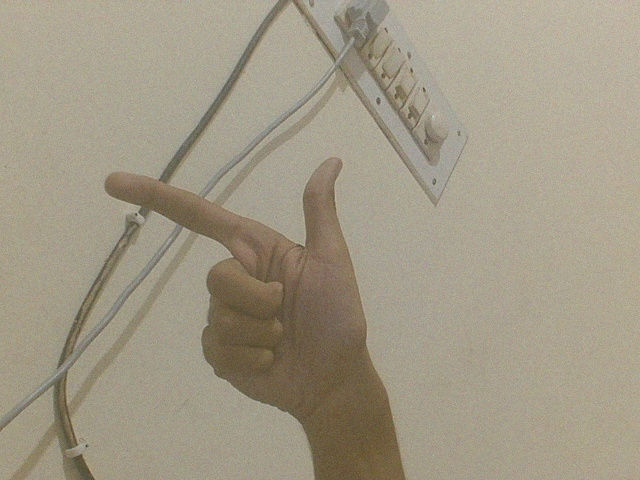hand: (97, 151, 380, 442)
